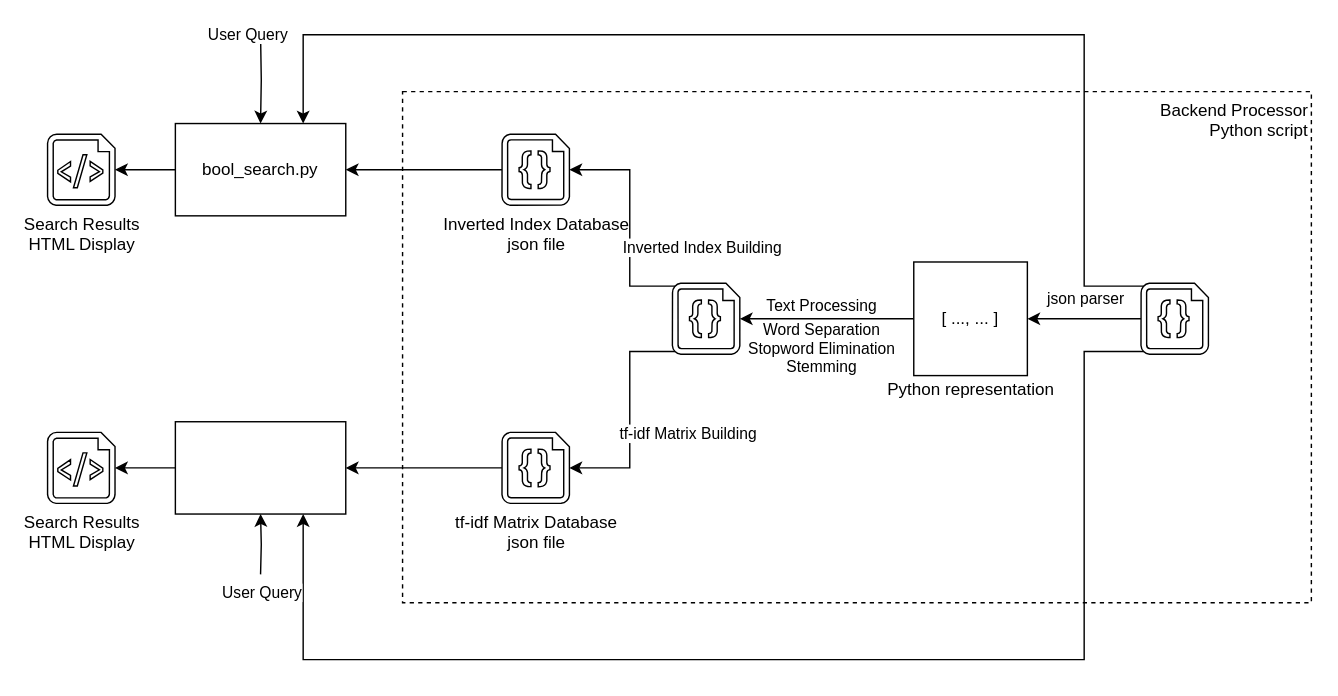
This 1338x696 diagram has some shape labels left out. The centre of each missing label's shape, as x and y in pixels:
Corpus json file: the point at 705,318
Financial News json files: the point at 1174,318
semantic_search.py: the point at 260,467
